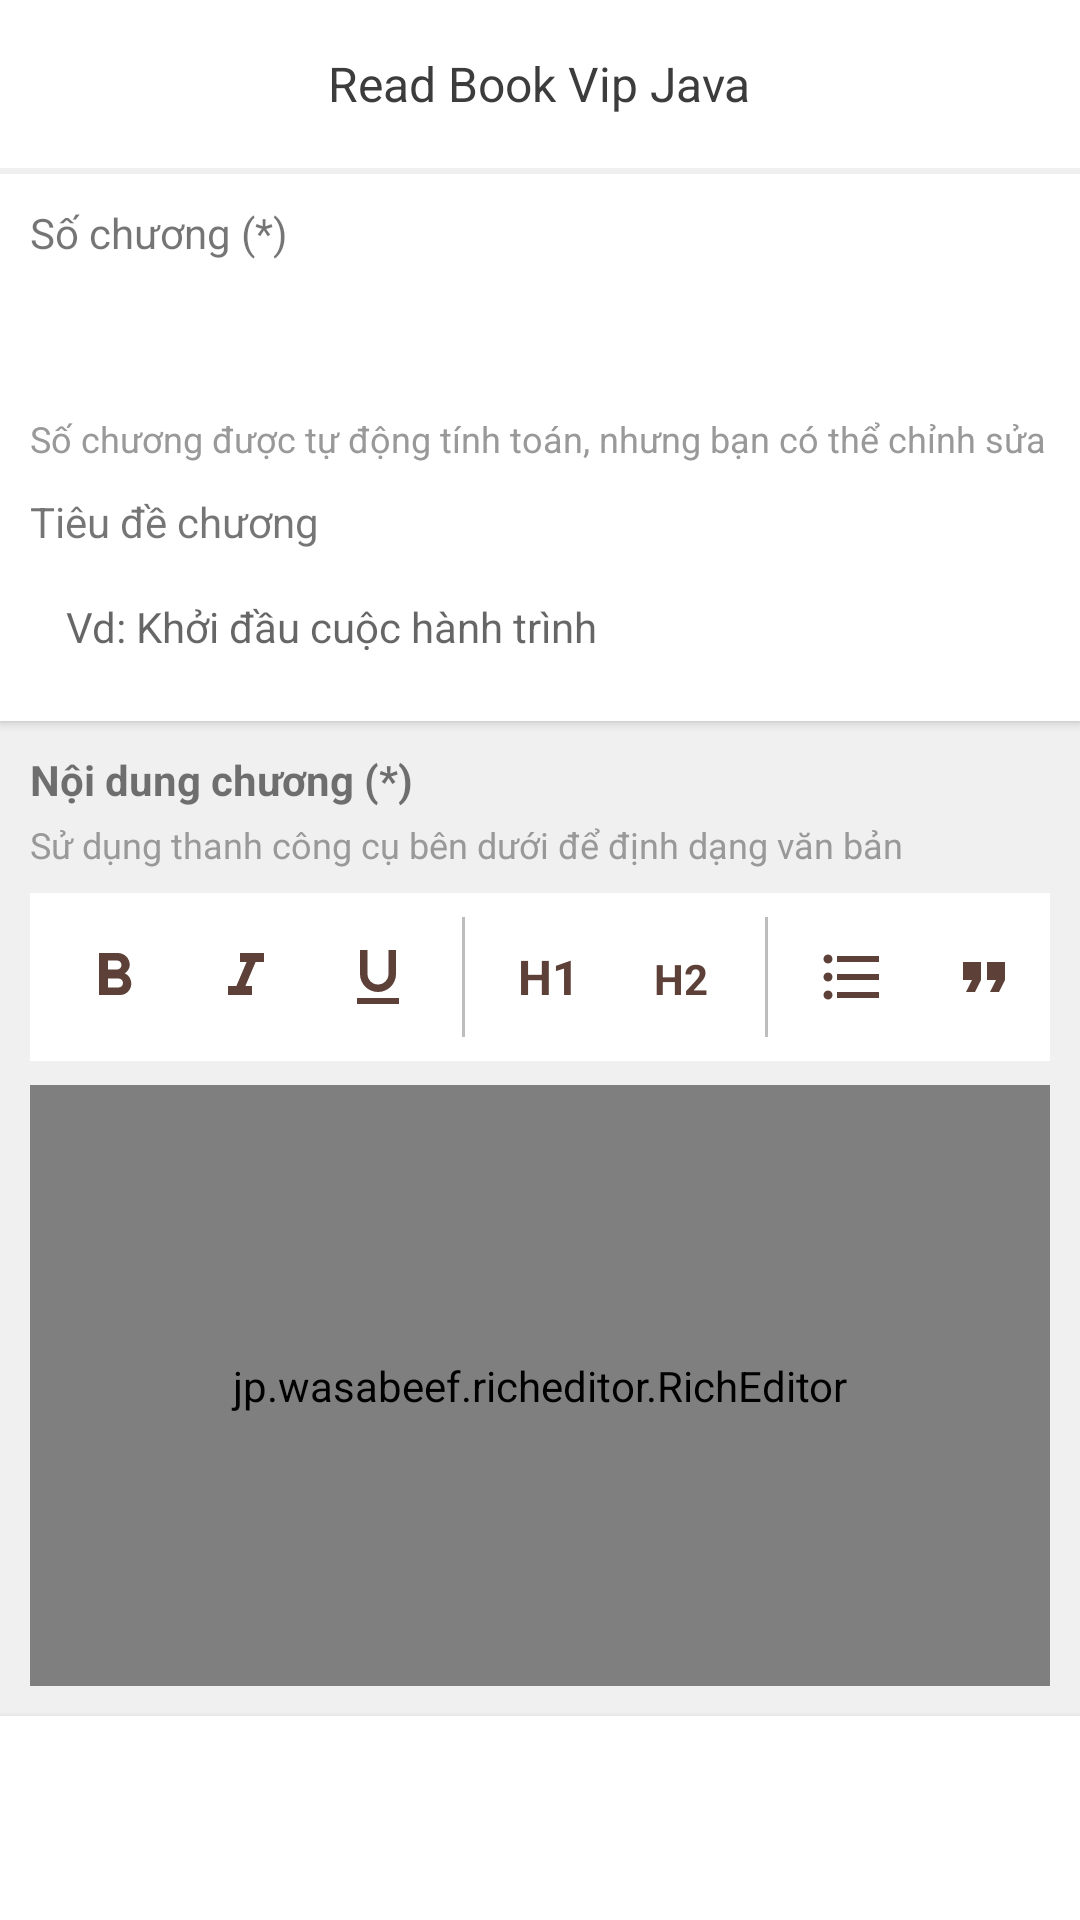

Named icons in this screenshot (1080*1920) and their bounding boxes, (x1, y1, x2, y2):
Bold: (99, 953, 132, 995)
Bullet List: (823, 954, 879, 1000)
Italic: (228, 953, 264, 995)
Quote: (963, 962, 1005, 992)
Underline: (357, 950, 399, 1004)
